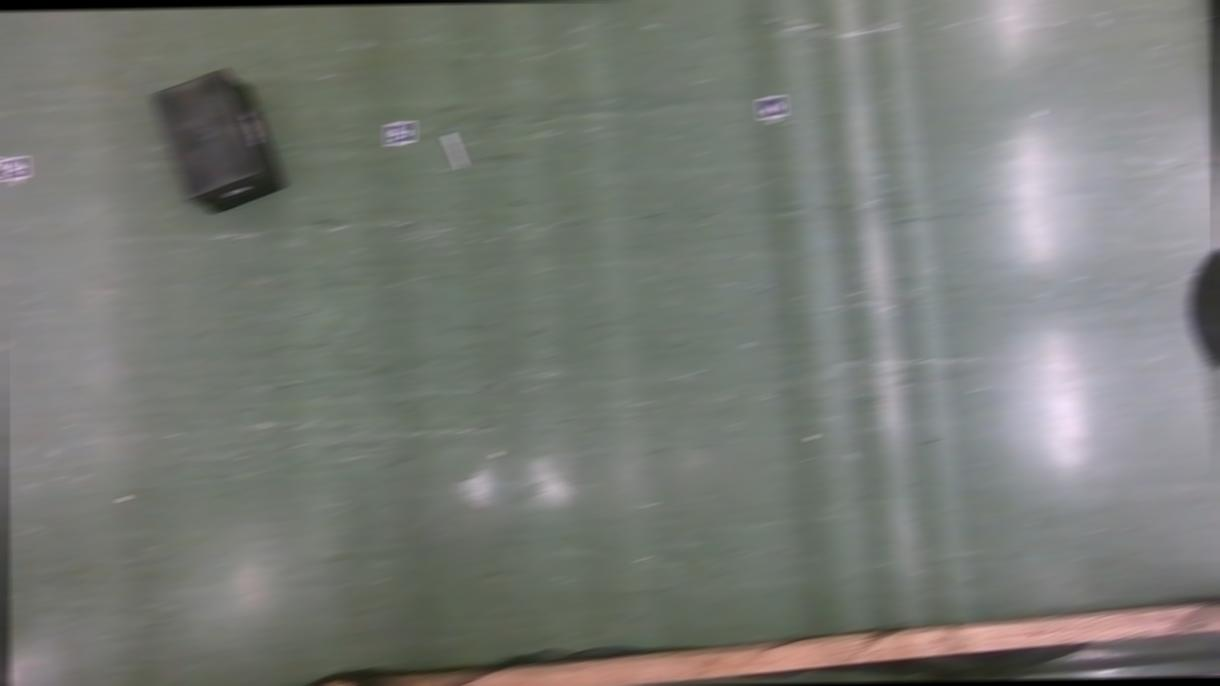probes: (446, 134, 468, 170)
rako: (149, 70, 286, 216)
